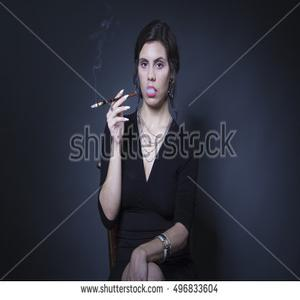cigarette: (84, 87, 138, 108)
